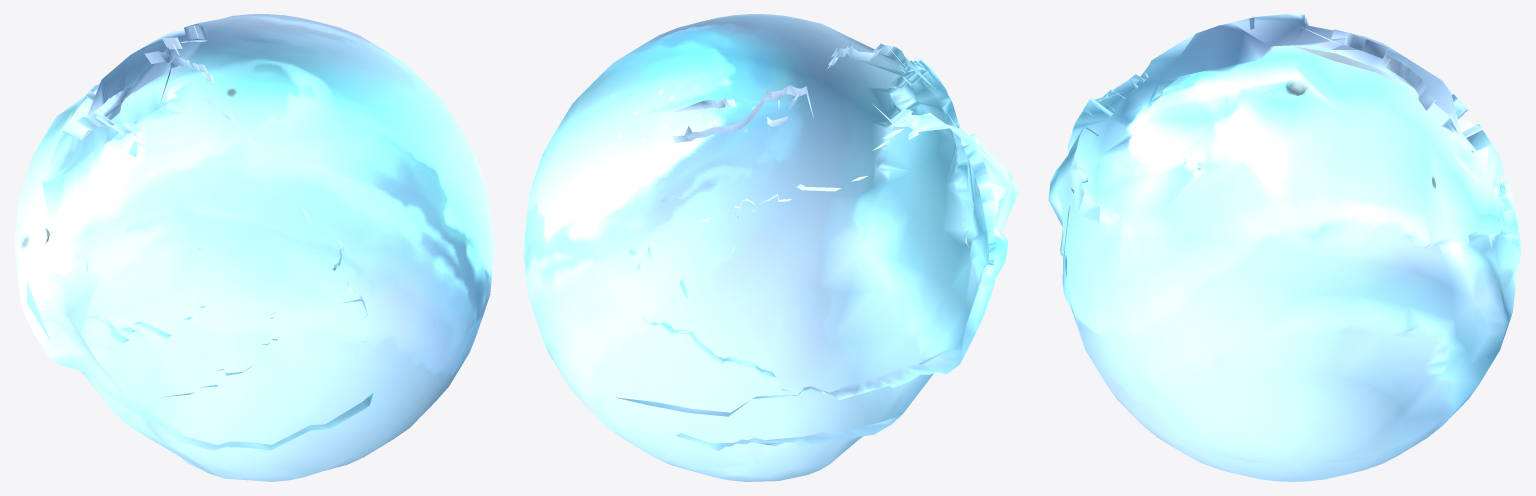
3 renders of one model, left to right at view 1: azimuth 30°, elevation 25°; view 2: azimuth 150°, elevation 25°; view 3: azimuth 270°, elevation 25°, orthographic. The views are drawn at different scales.
Visible parts, largest first — view 1: Object001_Material__25__background_JPG_002_0; view 2: Object001_Material__25__background_JPG_002_0; view 3: Object001_Material__25__background_JPG_002_0.
Part boxes in pixels (x1,y1,x2,y2): Object001_Material__25__background_JPG_002_0: [14, 14, 494, 481]; Object001_Material__25__background_JPG_002_0: [523, 14, 1019, 481]; Object001_Material__25__background_JPG_002_0: [1048, 14, 1521, 481].
Size of the model in its own units: 33.29 by 31.24 by 32.01.
